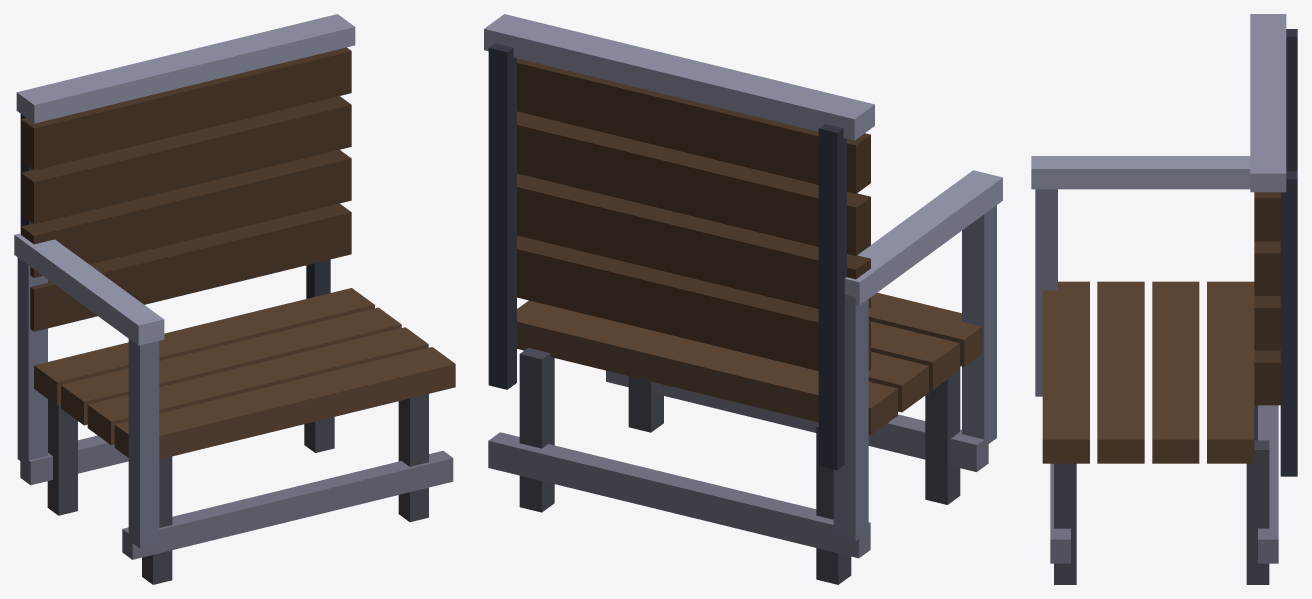
File: CMU3DWoodCouchEnd.glb
3 views of the same model, side by side, from view 1: azimuth 30°, elevation 25°; view 2: azimuth 150°, elevation 25°; view 3: azimuth 270°, elevation 25° (orthographic). The views are drawn at different scales.
Visible parts, largest first — view 1: wood back slat (×4), wood seat slat (×4), steel lower rail (×2), silver upper back rail, left end upright (×2), short bench foot (×4), left end armrest, rear steel upright; view 2: wood back slat (×4), wood seat slat (×4), rear steel upright (×2), steel lower rail (×2), silver upper back rail, left end upright (×2), short bench foot (×4), left end armrest; view 3: wood seat slat (×4), left end armrest, rear steel upright (×2), silver upper back rail, wood back slat (×4), short bench foot (×2), steel lower rail (×2), left end upright.
Part boxes in pixels (x1=…): wood back slat (×4): x1=21, y1=47, x2=351, y2=331; wood seat slat (×4): x1=34, y1=288, x2=455, y2=459; steel lower rail (×2): x1=20, y1=435, x2=453, y2=559; silver upper back rail: x1=16, y1=14, x2=355, y2=123; left end upright (×2): x1=17, y1=257, x2=159, y2=548; short bench foot (×4): x1=47, y1=394, x2=428, y2=584; left end armrest: x1=14, y1=233, x2=164, y2=345; rear steel upright: x1=306, y1=259, x2=330, y2=298; wood back slat (×4): x1=517, y1=58, x2=870, y2=370; wood seat slat (×4): x1=517, y1=292, x2=982, y2=434; rear steel upright (×2): x1=488, y1=43, x2=846, y2=470; steel lower rail (×2): x1=488, y1=370, x2=988, y2=558; silver upper back rail: x1=484, y1=14, x2=874, y2=140; left end upright (×2): x1=833, y1=205, x2=996, y2=541; short bench foot (×4): x1=519, y1=347, x2=960, y2=584; left end armrest: x1=844, y1=170, x2=1002, y2=305; wood seat slat (×4): x1=1042, y1=281, x2=1254, y2=463; left end armrest: x1=1031, y1=156, x2=1250, y2=189; rear steel upright (×2): x1=1280, y1=29, x2=1297, y2=476; silver upper back rail: x1=1250, y1=14, x2=1286, y2=192; wood back slat (×4): x1=1254, y1=192, x2=1280, y2=405; short bench foot (×2): x1=1054, y1=440, x2=1269, y2=584; steel lower rail (×2): x1=1050, y1=405, x2=1278, y2=563; left end upright: x1=1035, y1=189, x2=1057, y2=396.
Size of the model in its own units: 1.01 by 1.23 by 0.705.
